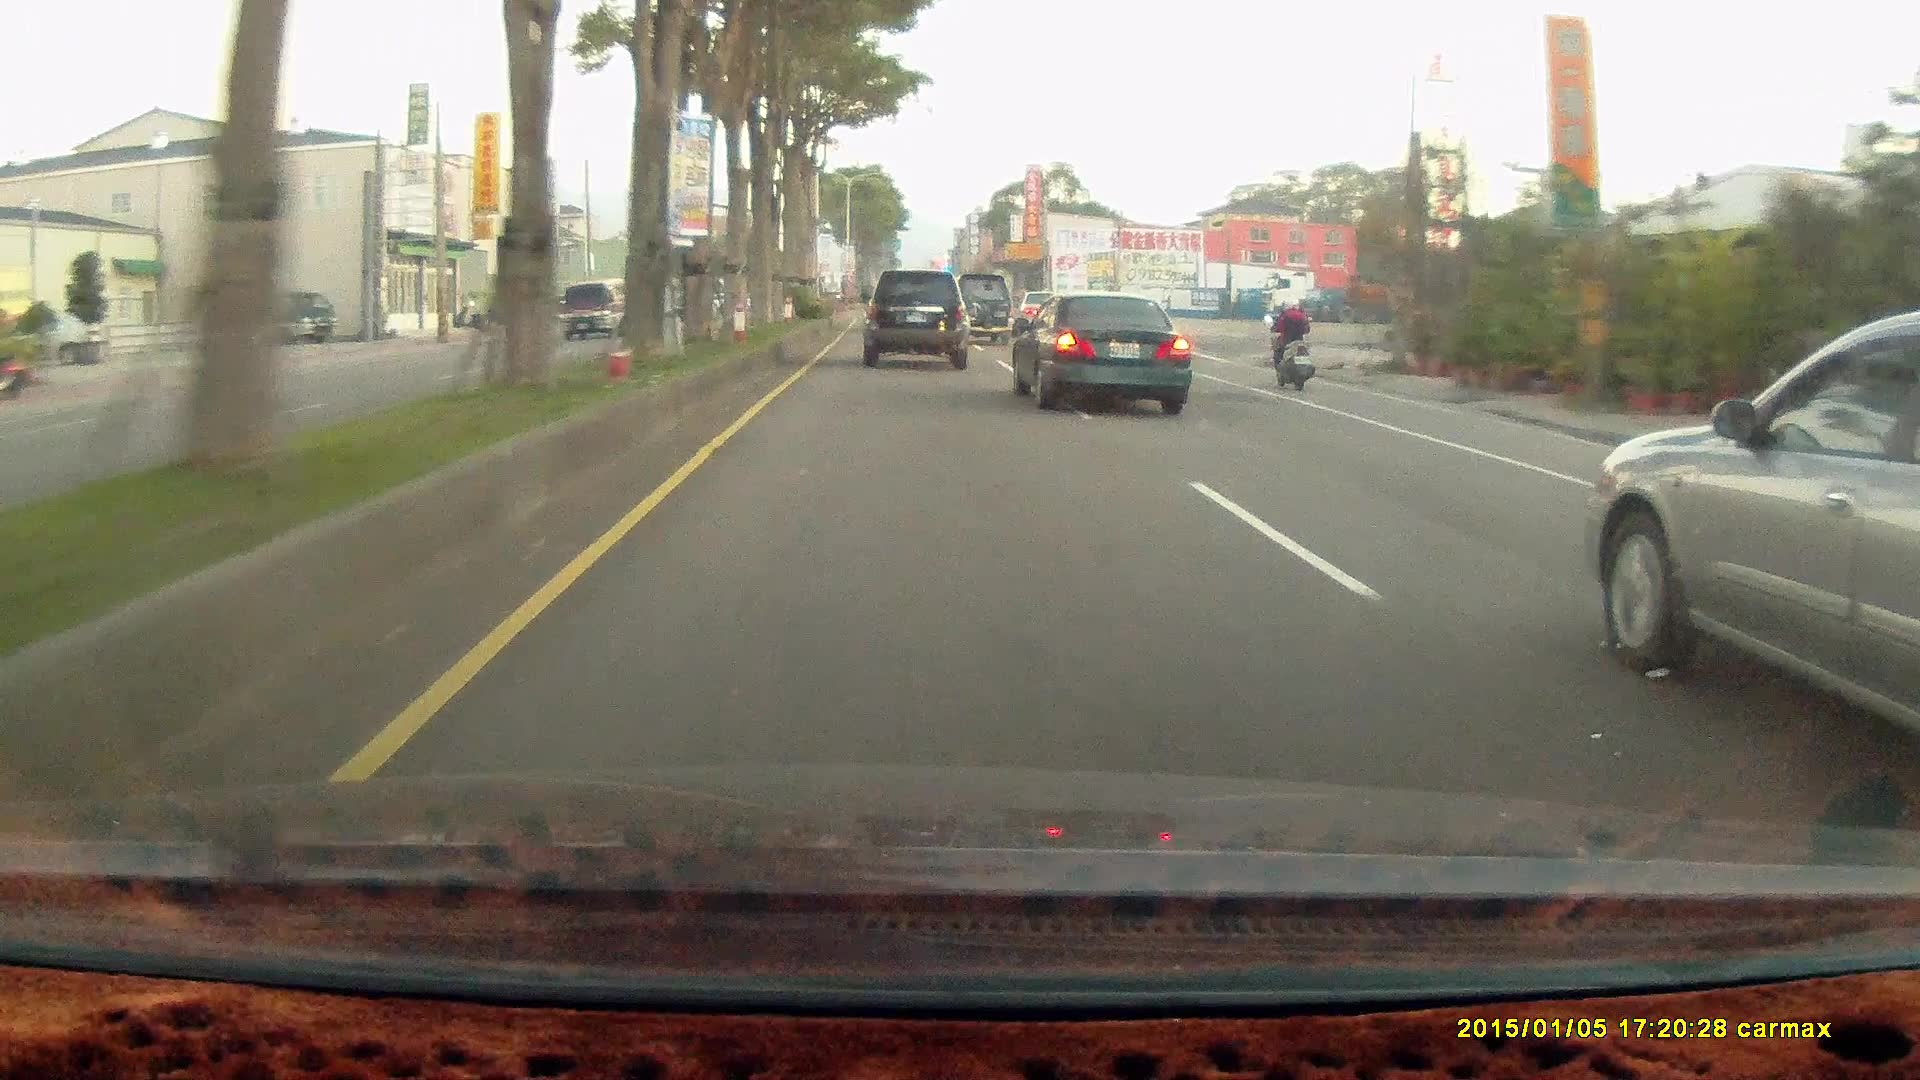rider: (1258, 289, 1325, 397), (1263, 290, 1316, 390)
vehicle: (1578, 299, 1920, 759), (1009, 288, 1191, 414), (1009, 288, 1193, 411), (1266, 265, 1504, 323), (858, 269, 973, 369), (859, 269, 967, 367), (235, 292, 335, 346), (950, 273, 1015, 347), (556, 282, 628, 341)
